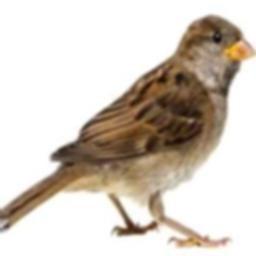Sparrow: (0, 15, 255, 247)
